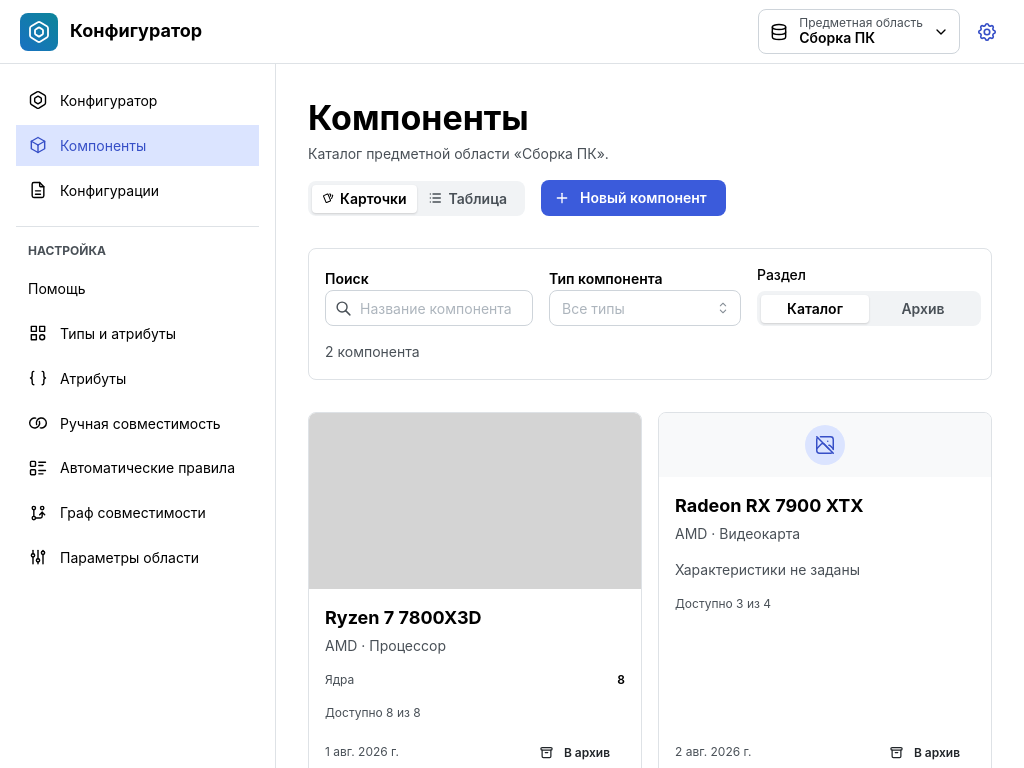
Scenario: component catalog › sends search and type filters to the server and resets them
Expected: the heading "Ryzen 7 7800X3D" is shown, [325,605,482,631]
Type "Radeon" into the field labelled "Поиск" at (429, 308), box [325,290,533,326]
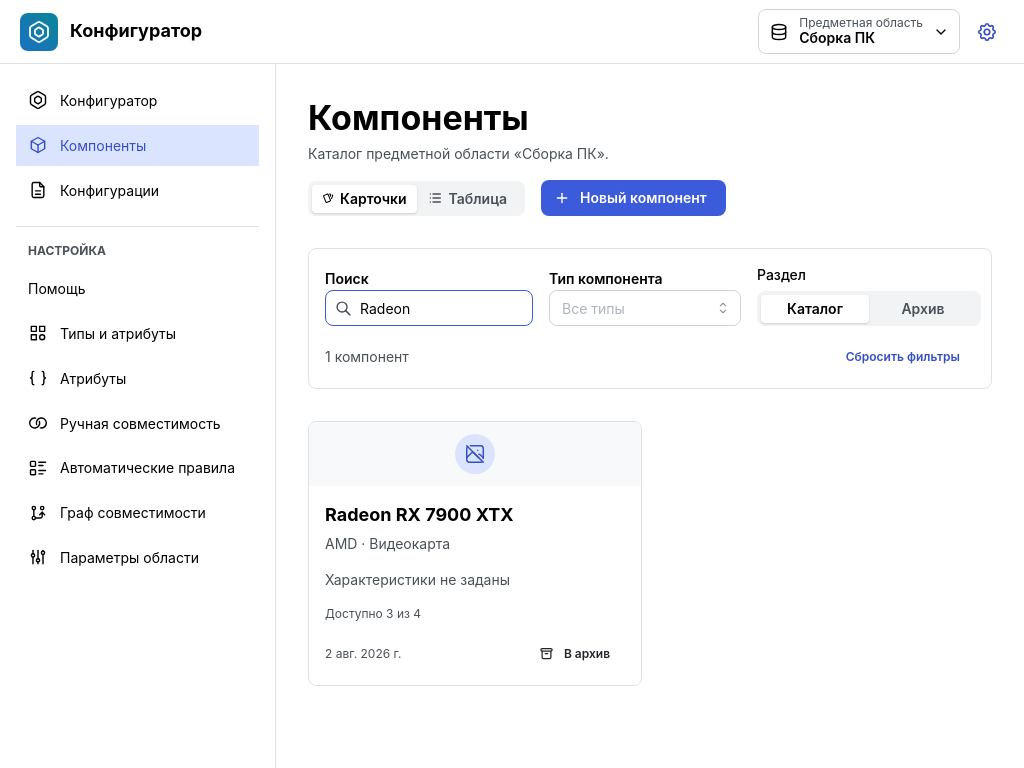
Expected: the heading "Radeon RX 7900 XTX" is shown, [325,502,514,529]
Result: the link "Ryzen 7 7800X3D" is gone
Click the button "Сбросить фильтры" at (903, 358), box [831,342,975,372]
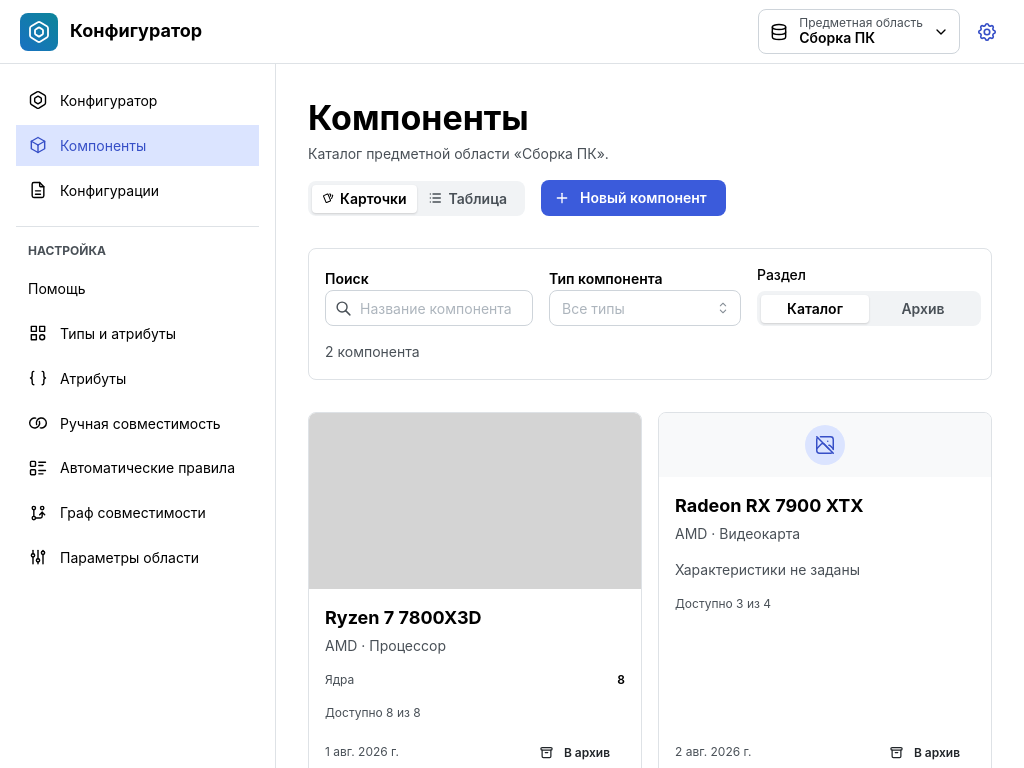
Result: the heading "Ryzen 7 7800X3D" is shown at [325,605,482,631]
Click the dropdown labelled "Тип компонента" at (645, 308), box [549,290,741,326]
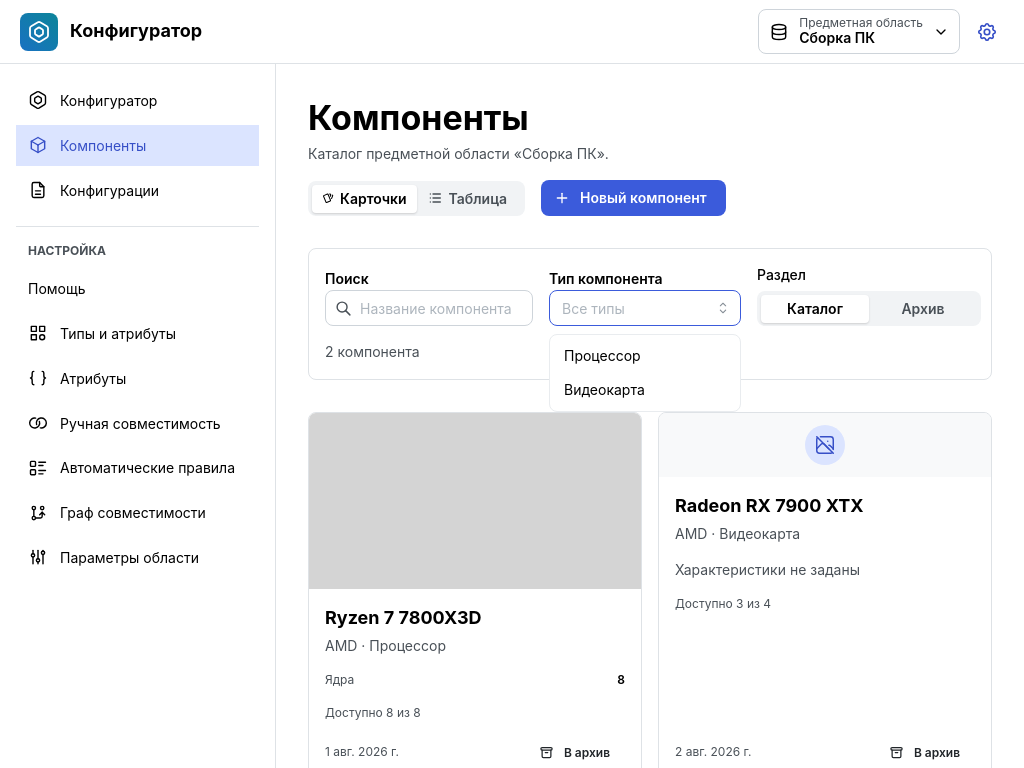
Press Arrowdown Arrowdown Enter
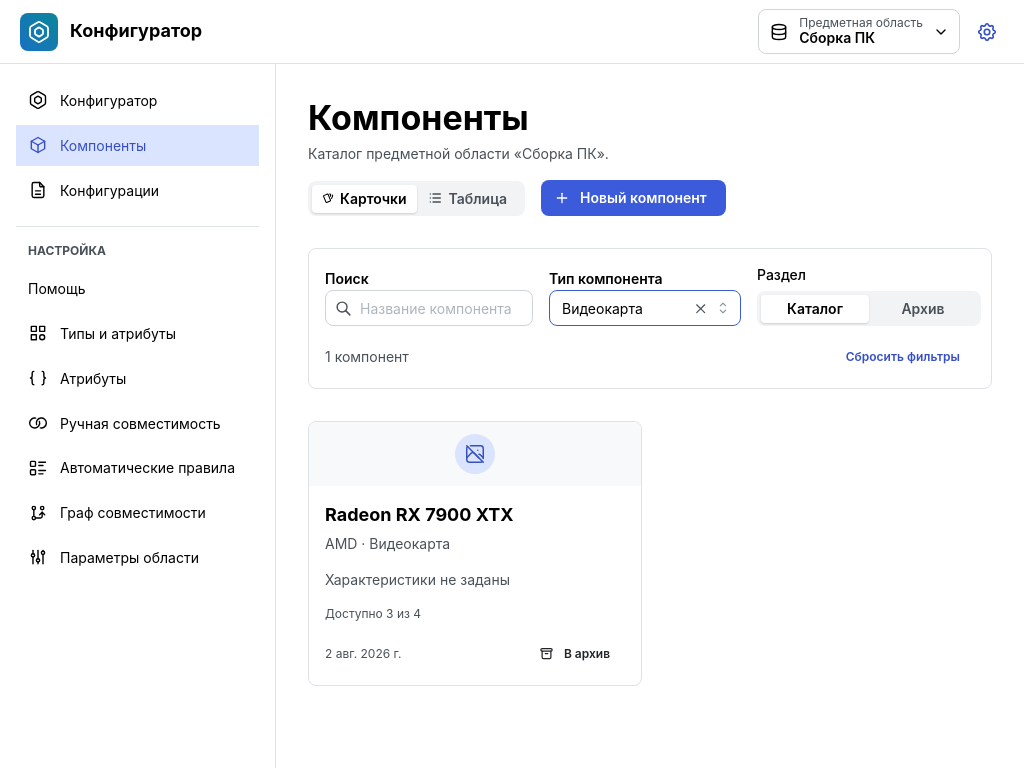
Click the button "Сбросить фильтры" at (903, 358), box [831,342,975,372]
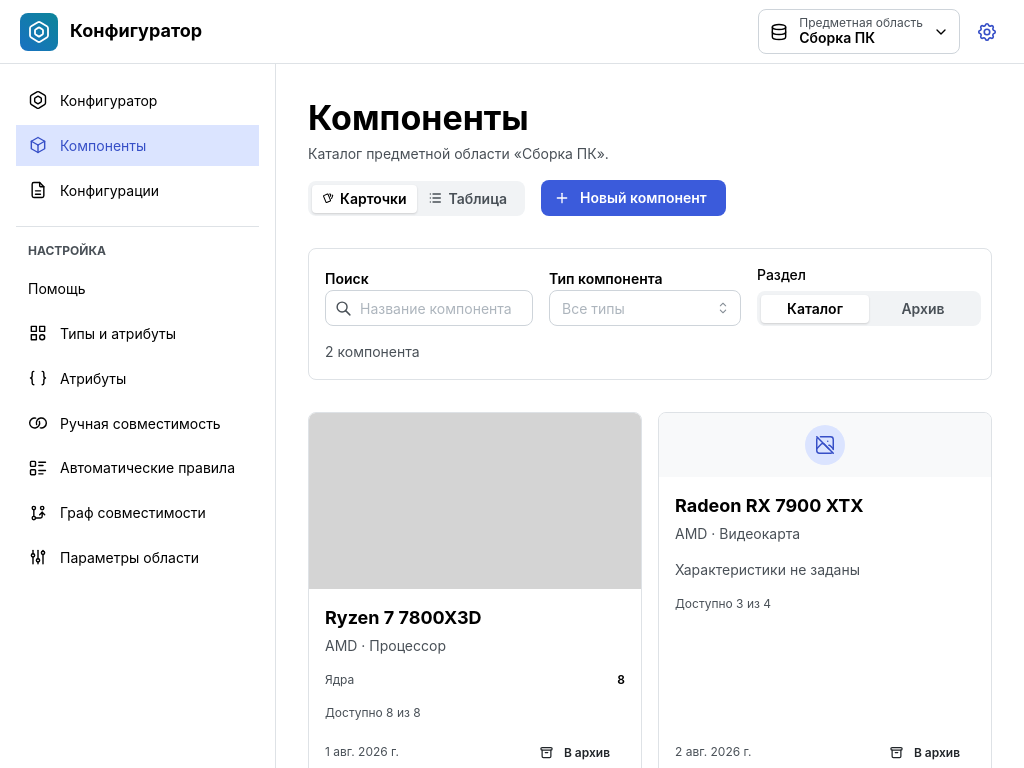
Result: the heading "Ryzen 7 7800X3D" is shown at [325,605,482,631]
